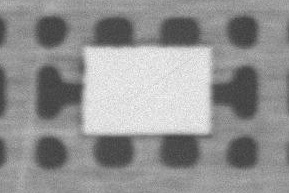DIE_CRACK: (195, 33, 289, 67)
